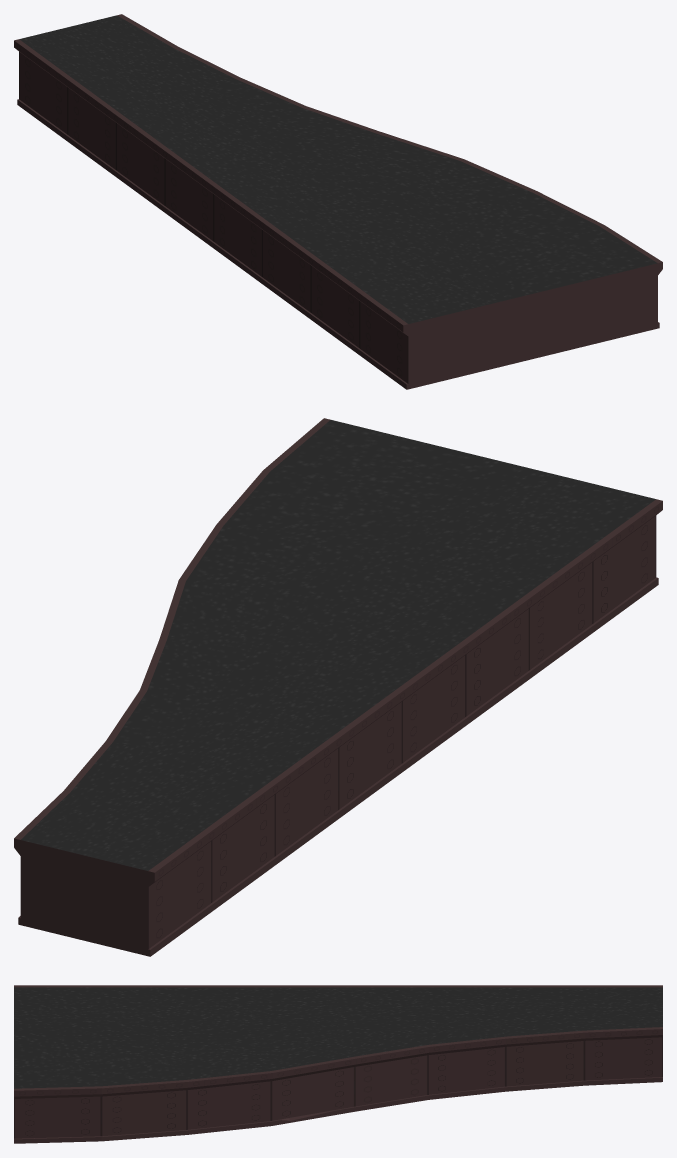
Rendered from SW_ENV_EL_TrackBase_SingleToDouble_20m.fbx.
3 renders of one model, top to bottom at view 1: azimuth 30°, elevation 25°; view 2: azimuth 150°, elevation 25°; view 3: azimuth 270°, elevation 25°, orthographic. The views are drawn at different scales.
Parts seen in each view (by area): view 1: SW_ENV_EL_TrackBase_SingleToDouble_20m; view 2: SW_ENV_EL_TrackBase_SingleToDouble_20m; view 3: SW_ENV_EL_TrackBase_SingleToDouble_20m.
Boxes of the visible parts, x1,y1,x2,y2 form: SW_ENV_EL_TrackBase_SingleToDouble_20m: (14, 14, 662, 389); SW_ENV_EL_TrackBase_SingleToDouble_20m: (14, 418, 662, 956); SW_ENV_EL_TrackBase_SingleToDouble_20m: (14, 985, 662, 1143).
Size of the model in its own units: 770 by 185 by 2000.
